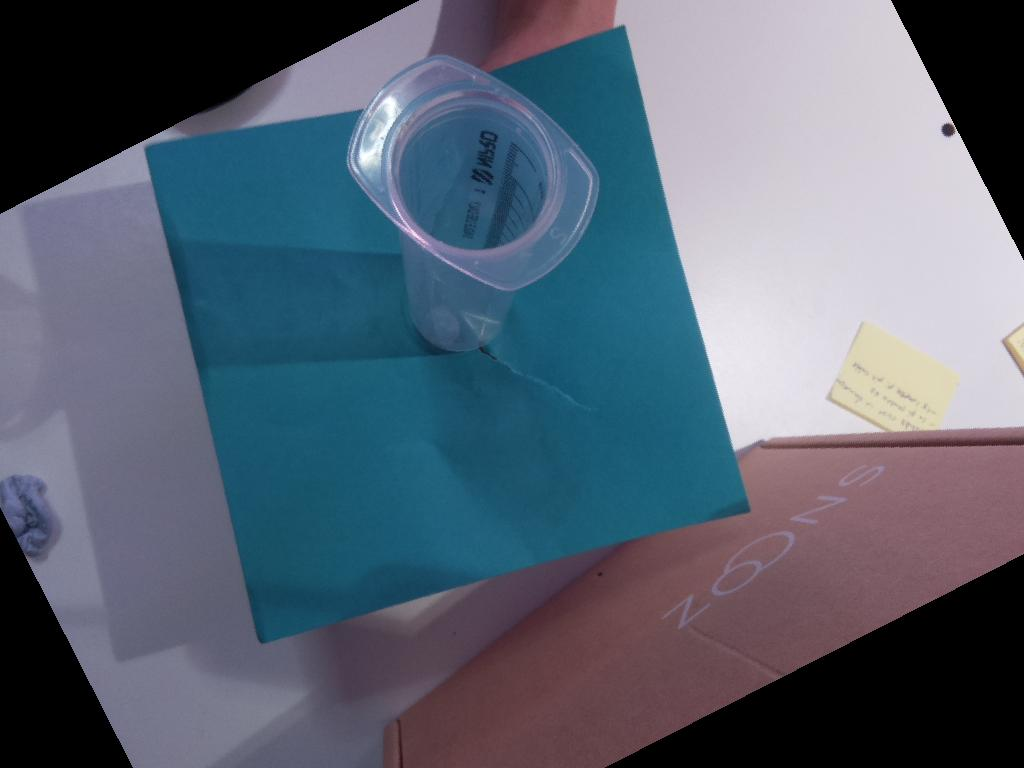clean: (343, 53, 603, 290)
